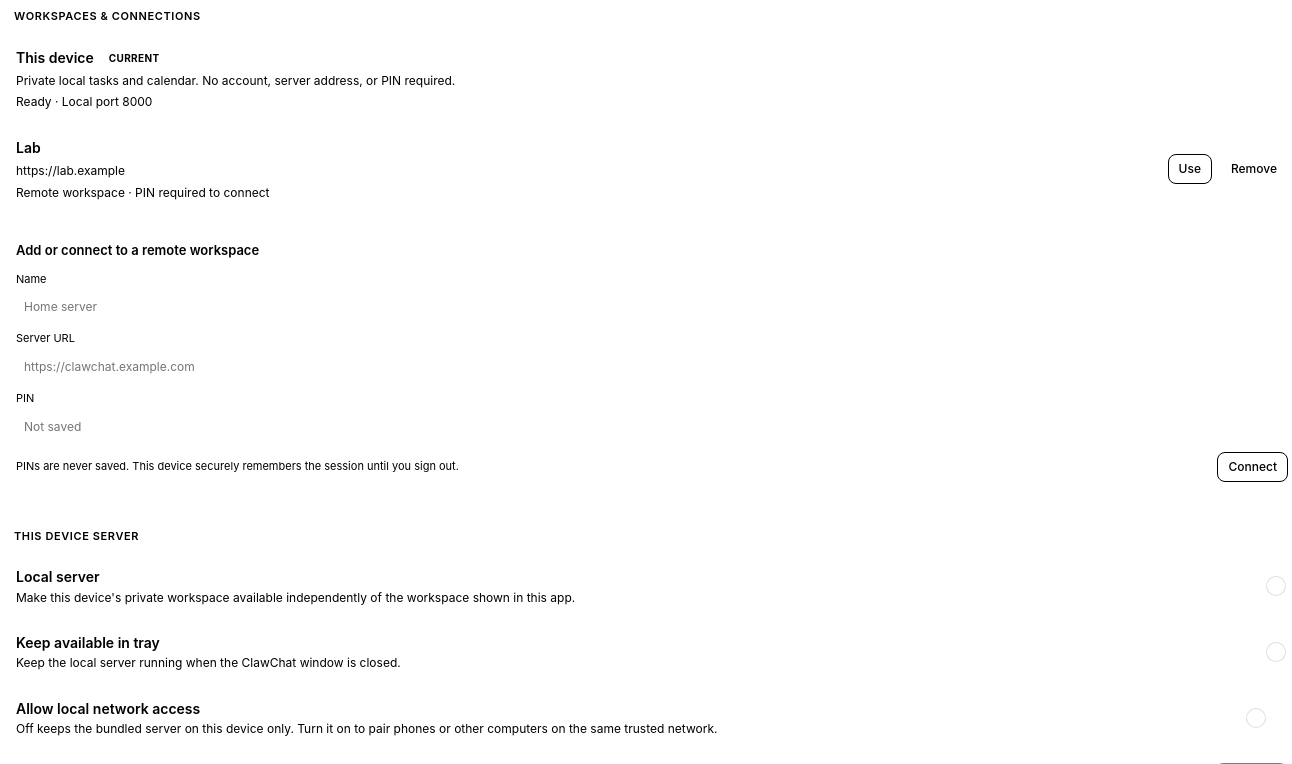
Test case: WorkspaceConnectionsSection › moves focus to the PIN field when a saved remote workspace needs authentication
This screenshot has width=1292, height=764.
Click the button "Use": (1190, 169) [1168, 154, 1212, 184]
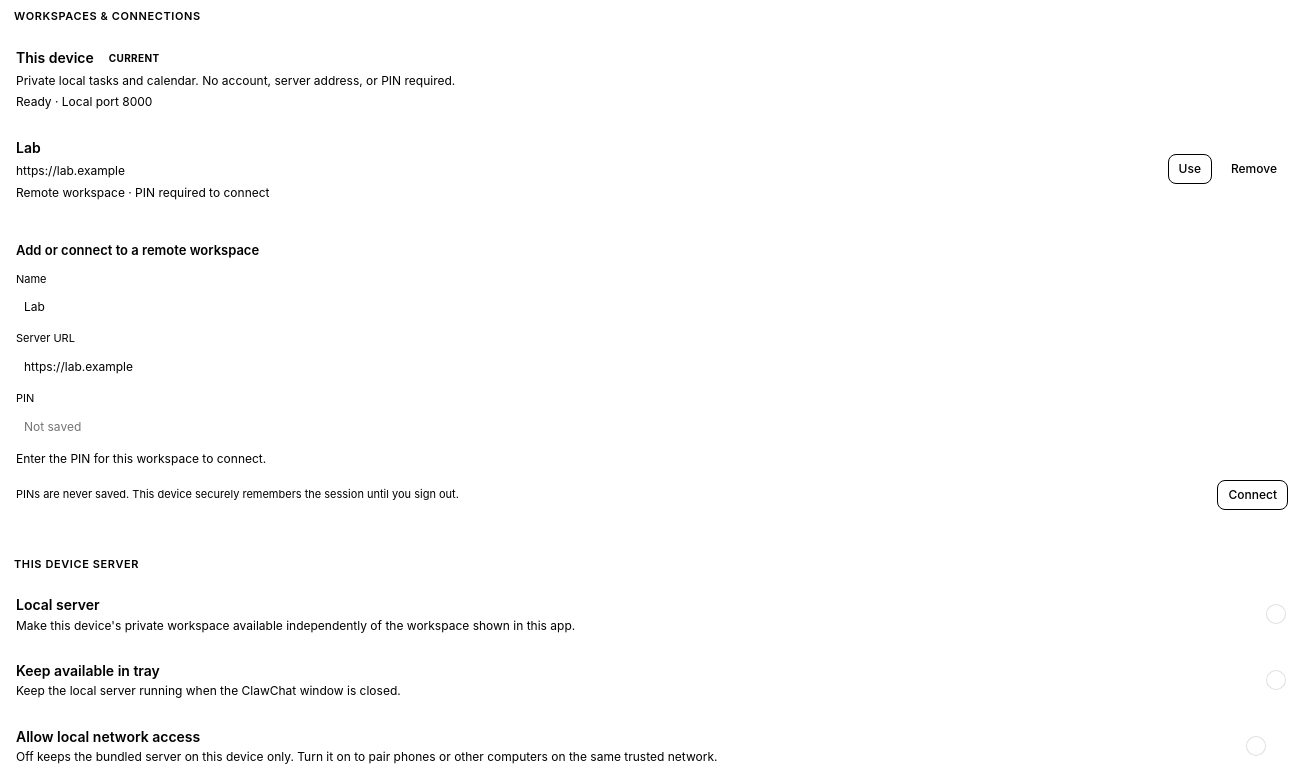
expect the text "Enter the PIN for this workspace to connect." is shown: met, box [16, 450, 266, 466]
